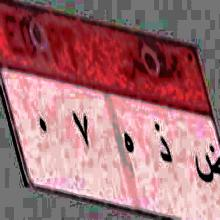0: (34, 109, 52, 148)
7: (69, 105, 96, 155)
daad: (195, 136, 220, 189)
haa: (116, 128, 139, 161)
zaal: (151, 118, 175, 173)
